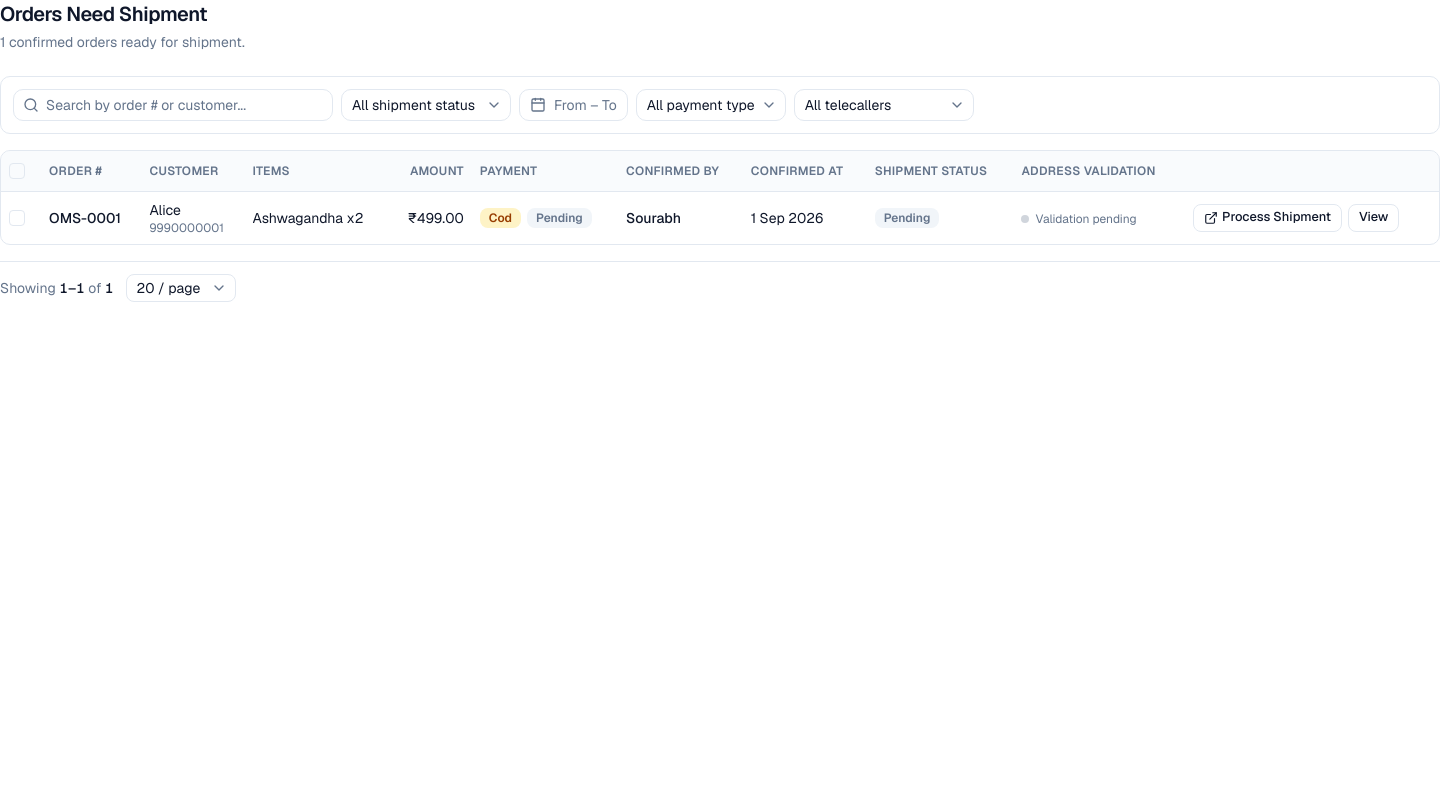
Test: FulfillmentOrdersPage › shows the already-processed (skipped) state when the shipment already has an AWB
Click the button "Process Shipment": (1268, 218) [1193,204,1342,232]
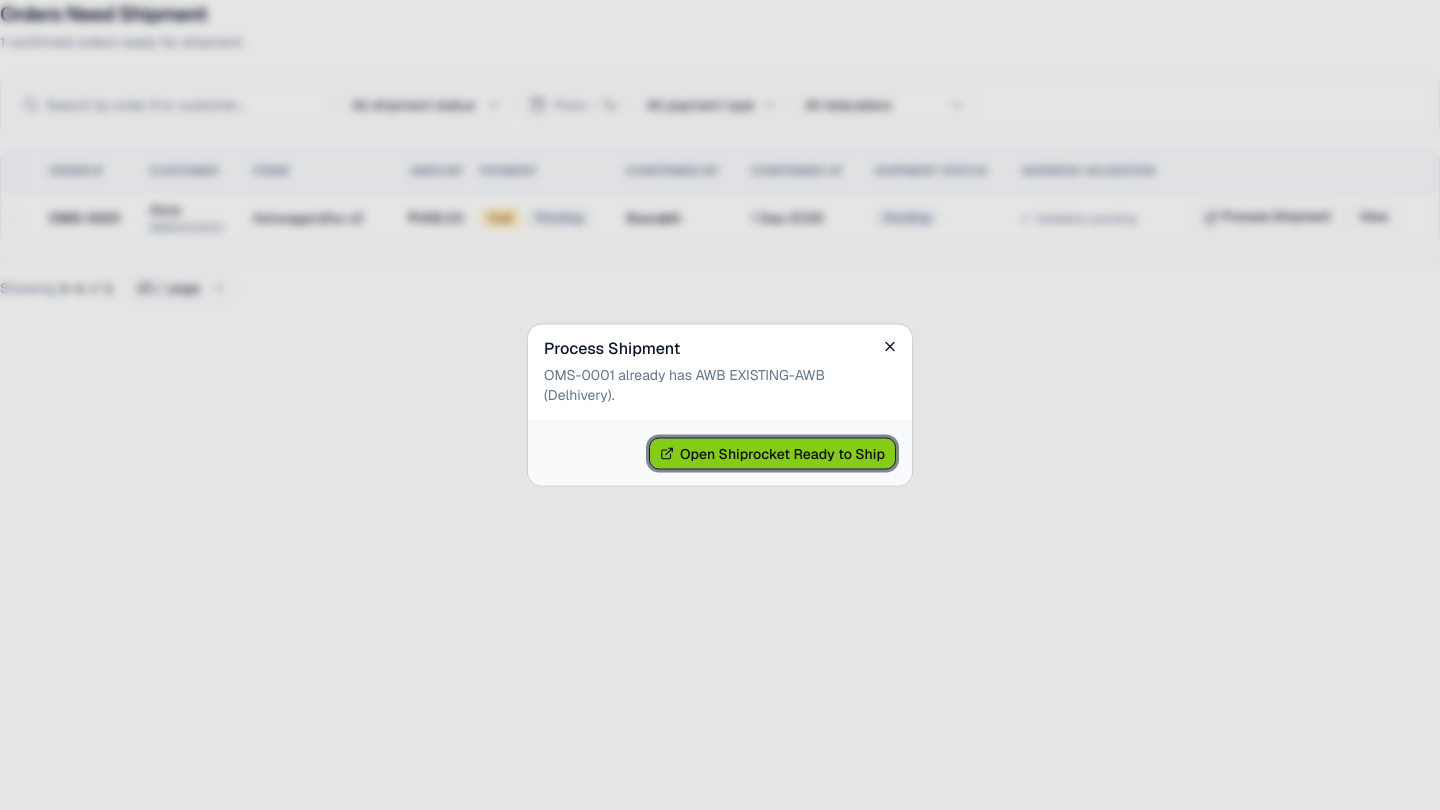
Expected: the text "OMS-0001 already has AWB EXISTING-AWB (Delhivery)." is shown, [544,366,825,404]
